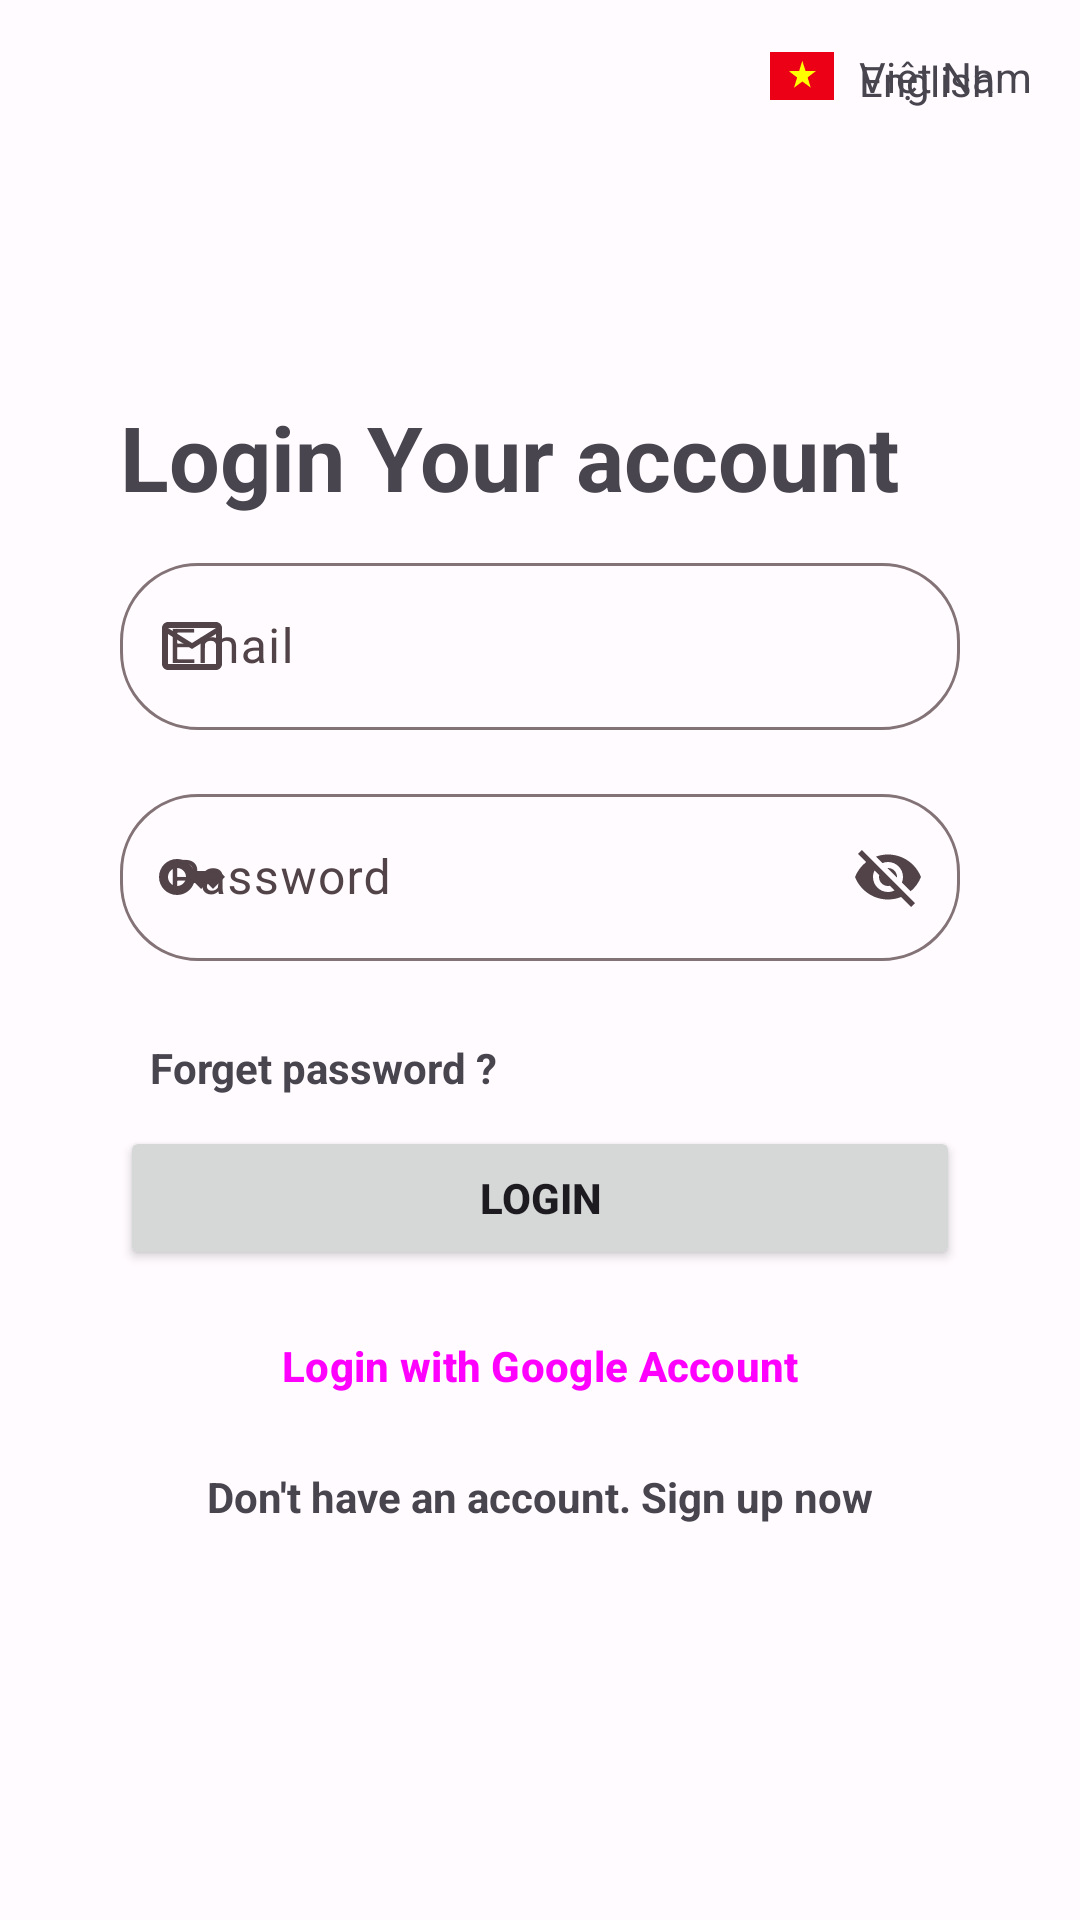

Named icons in this screenshot (1080 x 1920) and their centers, point (x, y):
vietnam: point (802, 76)
